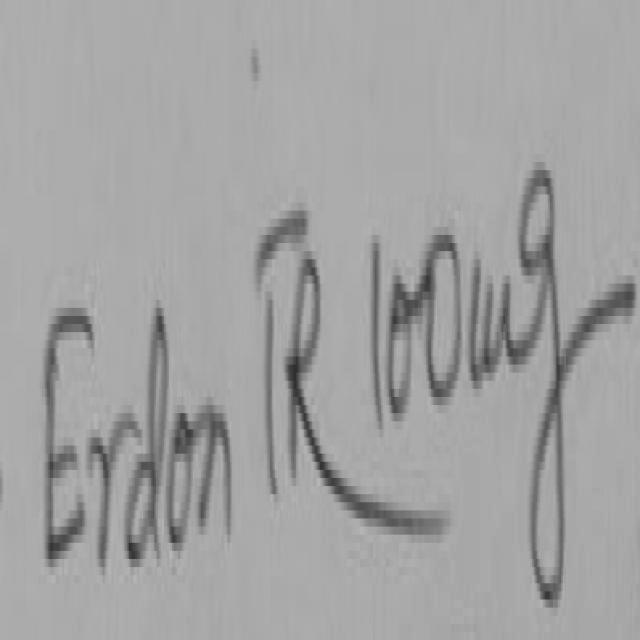0: (428, 243, 462, 393), (389, 288, 412, 413)
1: (371, 235, 383, 425)
E: (45, 308, 92, 555)
R: (290, 245, 352, 498)
T: (254, 214, 309, 493)
d: (129, 308, 165, 559)
g: (521, 170, 637, 604)
m: (469, 259, 533, 392)
n: (196, 404, 232, 547)
o: (169, 413, 195, 539)
r: (91, 413, 142, 563)
